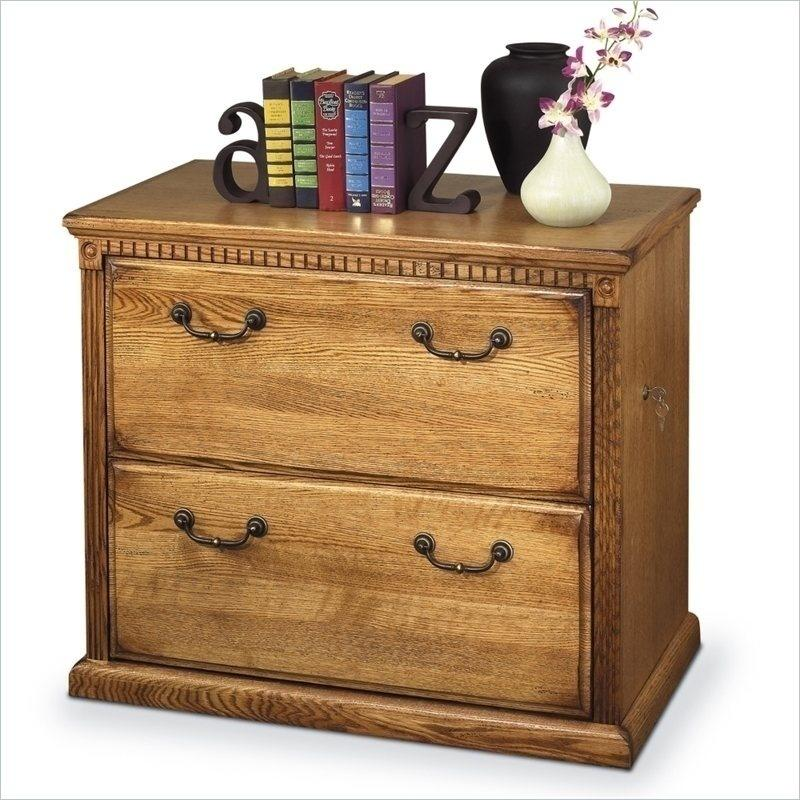cabinet_door: (108, 453, 596, 707), (103, 277, 588, 495), (320, 168, 345, 210), (348, 190, 370, 210), (373, 86, 397, 101)
handle: (163, 298, 271, 351), (171, 501, 268, 560), (412, 529, 512, 586), (408, 320, 517, 370), (324, 140, 342, 152), (328, 191, 342, 205), (326, 162, 342, 173)
